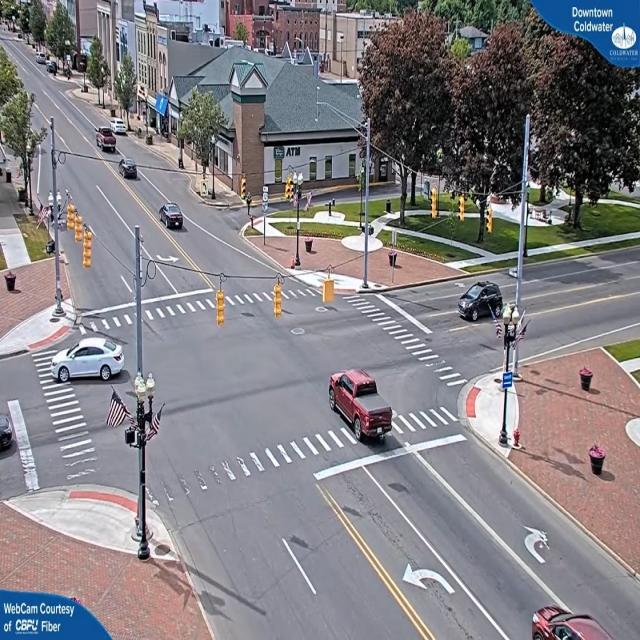car: (331, 369, 394, 443), (52, 340, 124, 385), (460, 282, 506, 325), (159, 204, 185, 232), (111, 120, 129, 137)
